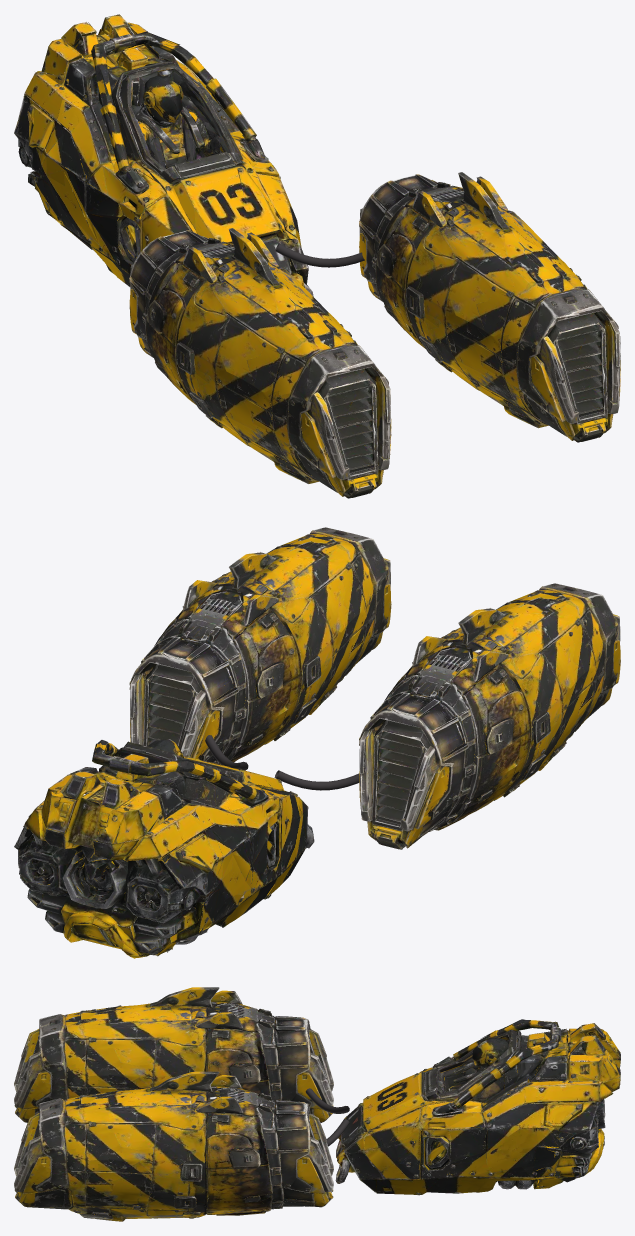
Rendered from bulwark-hero.glb.
3 renders of one model, top to bottom at view 1: azimuth 30°, elevation 25°; view 2: azimuth 150°, elevation 25°; view 3: azimuth 270°, elevation 25°, orthographic. The views are drawn at different scales.
Parts seen in each view (by area): view 1: bulwark-cockpit-body, bulwark-engine-left-body, bulwark-engine-right-body, bulwark-tow-cables; view 2: bulwark-cockpit-body, bulwark-engine-left-body, bulwark-engine-right-body, bulwark-tow-cables; view 3: bulwark-engine-right-body, bulwark-cockpit-body, bulwark-engine-left-body, bulwark-tow-cables.
Part boxes in pixels (x1,y1,x2,y2): bulwark-cockpit-body: [14, 14, 313, 296]; bulwark-engine-left-body: [129, 228, 391, 498]; bulwark-engine-right-body: [359, 172, 620, 442]; bulwark-tow-cables: [275, 243, 364, 267]; bulwark-cockpit-body: [14, 739, 314, 958]; bulwark-engine-left-body: [359, 583, 620, 849]; bulwark-engine-right-body: [129, 527, 391, 764]; bulwark-tow-cables: [205, 735, 359, 790]; bulwark-engine-right-body: [14, 1071, 333, 1221]; bulwark-cockpit-body: [335, 1019, 620, 1195]; bulwark-engine-left-body: [14, 987, 333, 1122]; bulwark-tow-cables: [305, 1088, 349, 1146].
Size of the model in its own units: 9.91 by 5.11 by 19.15.
3 materials, 2 textured.
